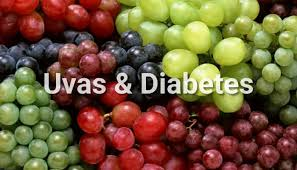Green grapes: (153, 5, 294, 93), (1, 75, 72, 167)
Red Grapes: (84, 100, 296, 168)
